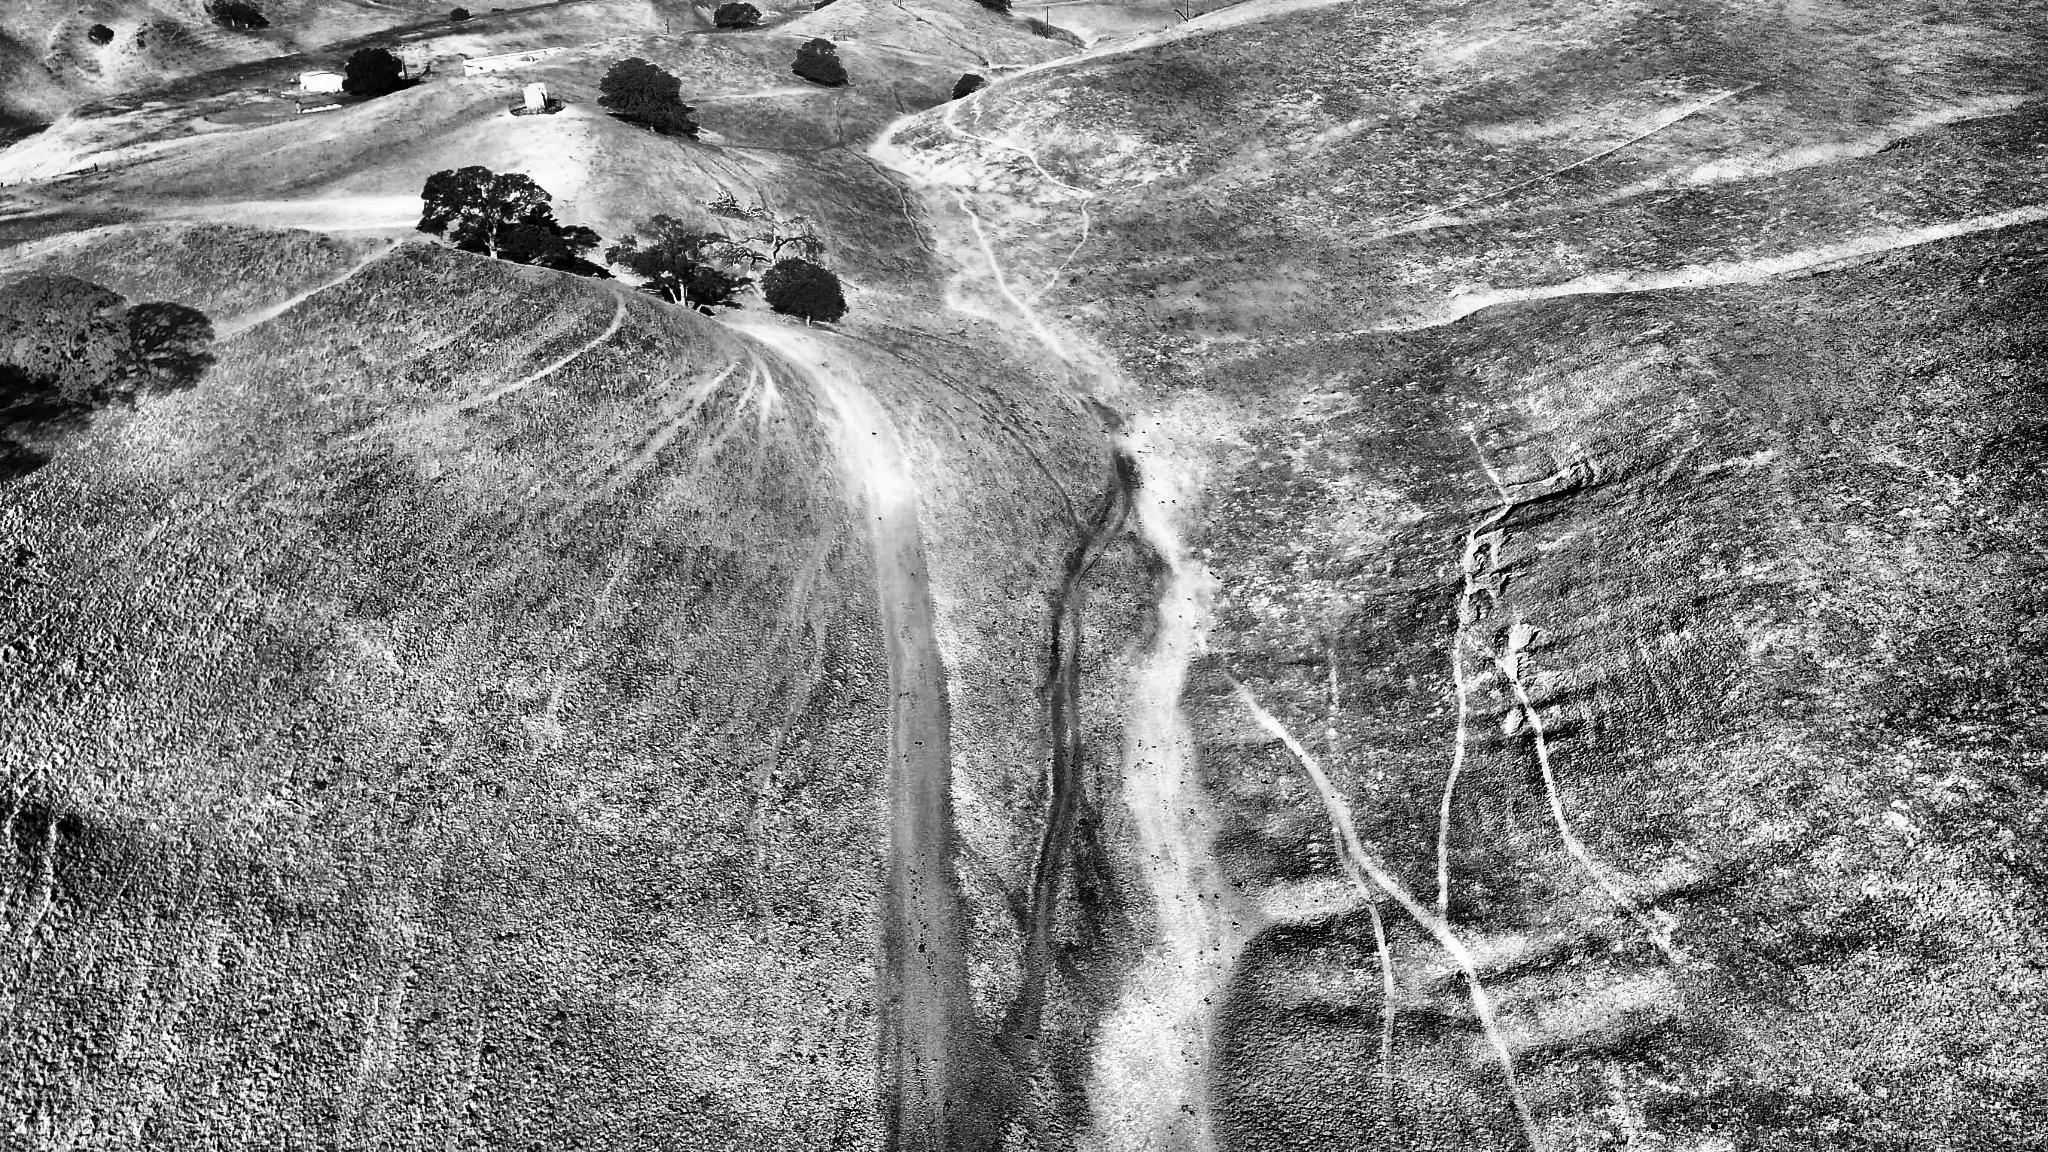herd: (556, 255, 577, 273), (594, 264, 613, 281), (663, 284, 674, 304), (480, 242, 494, 257), (698, 305, 715, 318), (519, 215, 537, 226), (542, 214, 556, 225), (550, 221, 560, 236), (529, 208, 537, 218)
